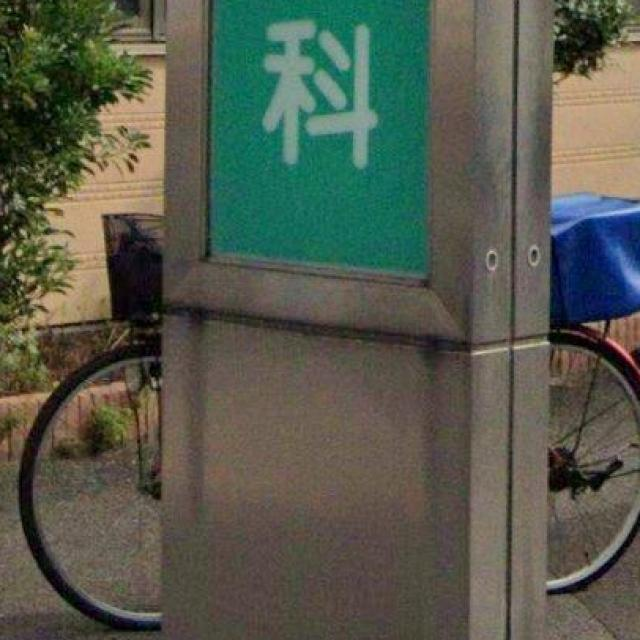bicycle: (19, 328, 163, 630), (545, 328, 640, 589)
